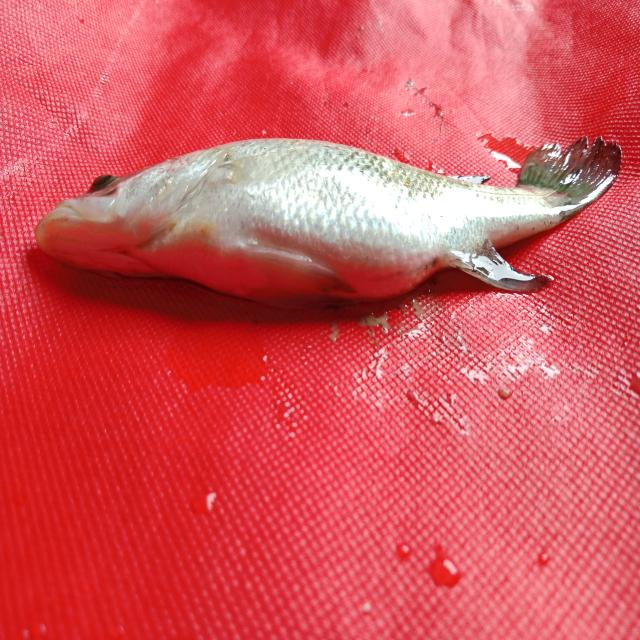ikan: (22, 92, 635, 324)
